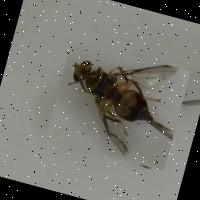Oriental-fruit-fly: (45, 39, 190, 170)
